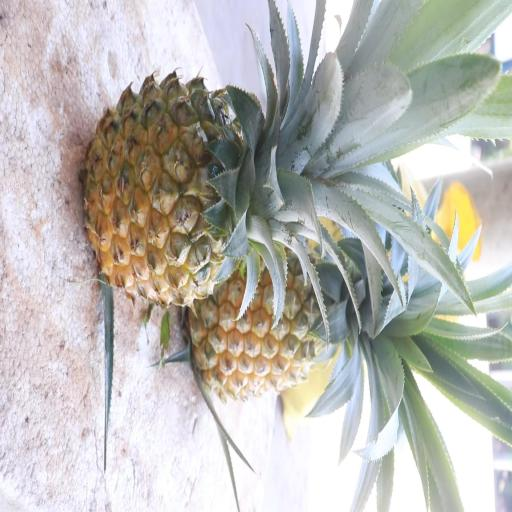Pineapple - v8 v1: (79, 66, 327, 314), (182, 211, 394, 409)
